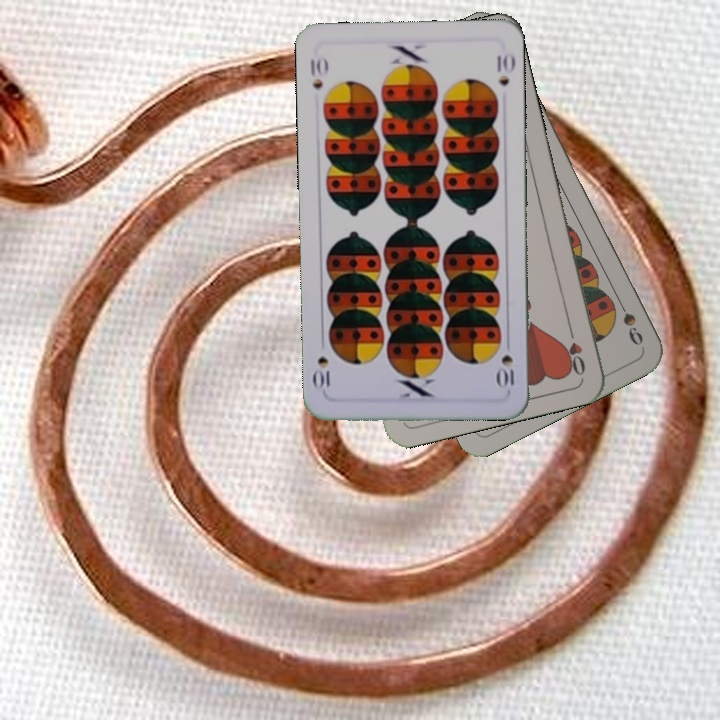HO: (562, 320, 588, 379)
S10: (495, 334, 516, 390), (306, 53, 330, 92)
S9: (608, 293, 646, 349)
